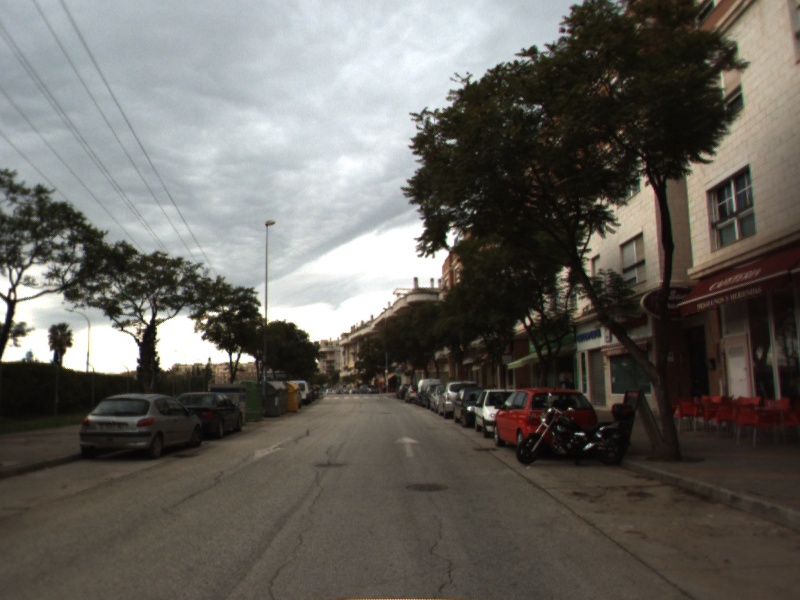STRAIGHT: (392, 433, 424, 459)
